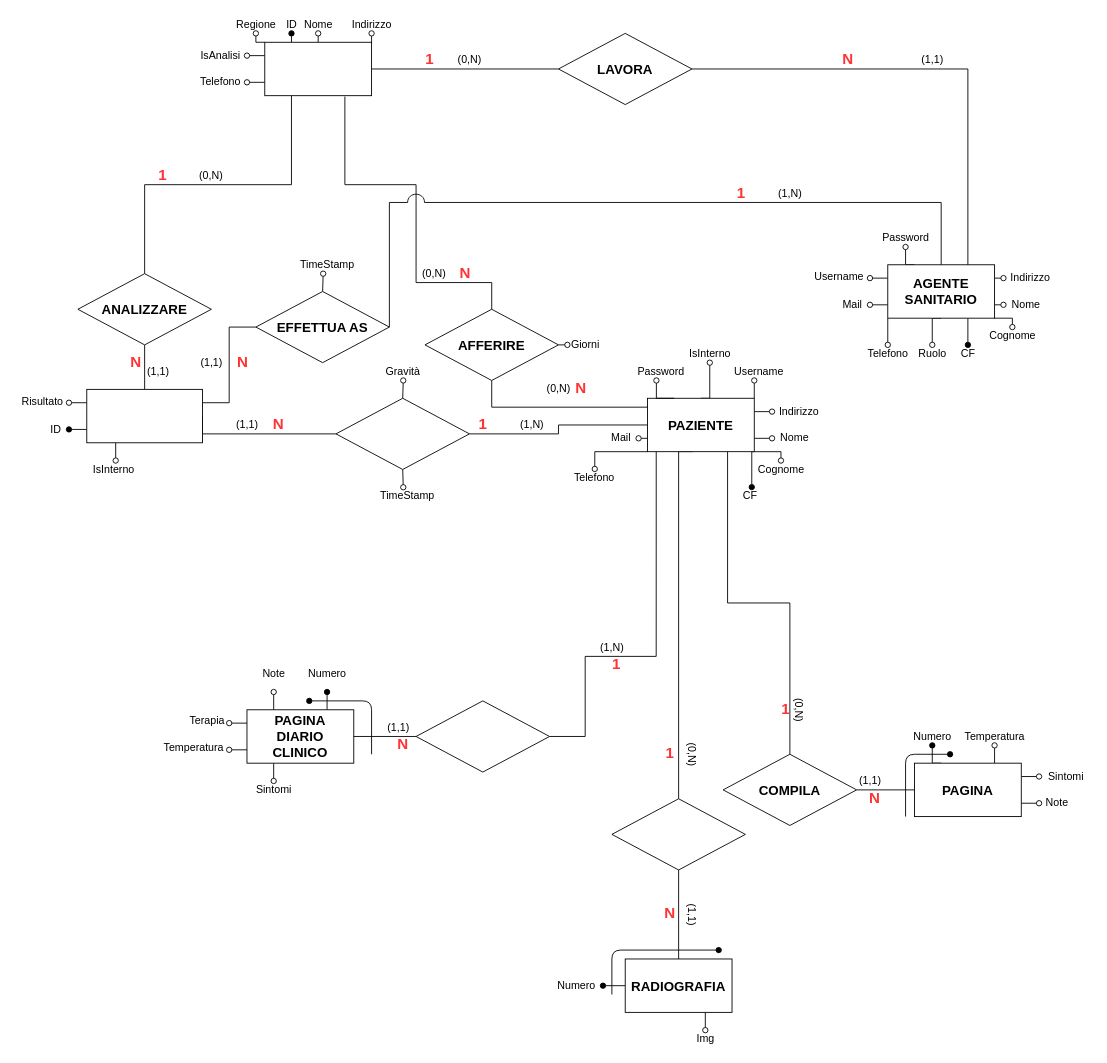
The diagram is 1107 pixels wide and 1063 high, and some of its shapes have lost their labels. The box of each missing label's shape, as (x1, y1, x2, y2) in pixels:
AVERE: (415, 700, 550, 772)
EFFETTUA P: (335, 397, 469, 469)
STRUTTURA: (264, 41, 372, 96)
SVOLGERE: (611, 798, 745, 870)
TAMPONE: (86, 388, 202, 443)
